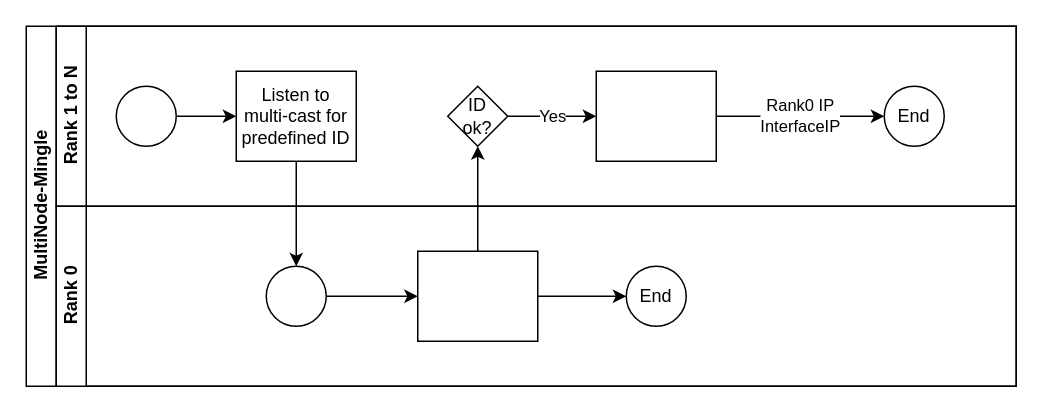
Some shapes in this 1043 by 413 pixel diagram are drawn without their labels. Here are the shapes that lost their labels. From the top down, the centre of each, then its label:
At (145,115): "Run".
At (655,115): "Extract Rank0 IP, Extract Interface IP".
At (295,295): "Run last".
At (477,295): "Sends out multicast with ID:IPaddr".
